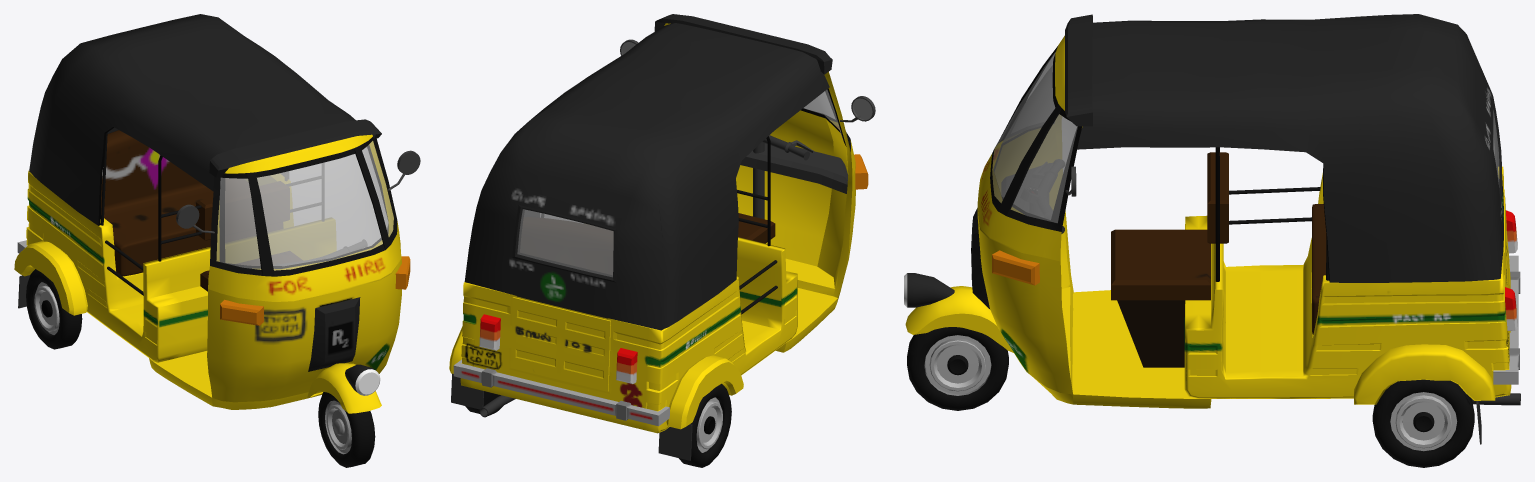
Rendered from Auto 1.fbx.
3 views of the same model, side by side, from view 1: azimuth 30°, elevation 25°; view 2: azimuth 150°, elevation 25°; view 3: azimuth 270°, elevation 25° (orthographic). The views are drawn at different scales.
Parts seen in each view (by area): view 1: persp5, persp5.001, persp5.002, persp5.004; view 2: persp5, persp5.002; view 3: persp5, persp5.003, persp5.001, persp5.004.
Boxes of the visible parts, box(x1,y1,x2,y2) form: persp5: box(14, 14, 420, 409); persp5.001: box(318, 392, 375, 467); persp5.002: box(26, 269, 82, 349); persp5.004: box(307, 363, 381, 413); persp5: box(449, 14, 875, 460); persp5.002: box(679, 383, 731, 467); persp5: box(971, 14, 1520, 444); persp5.003: box(1372, 379, 1474, 467); persp5.001: box(907, 327, 1008, 410); persp5.004: box(904, 273, 1013, 352).
Bounding box in the file's own units: 150 × 174 × 272.
